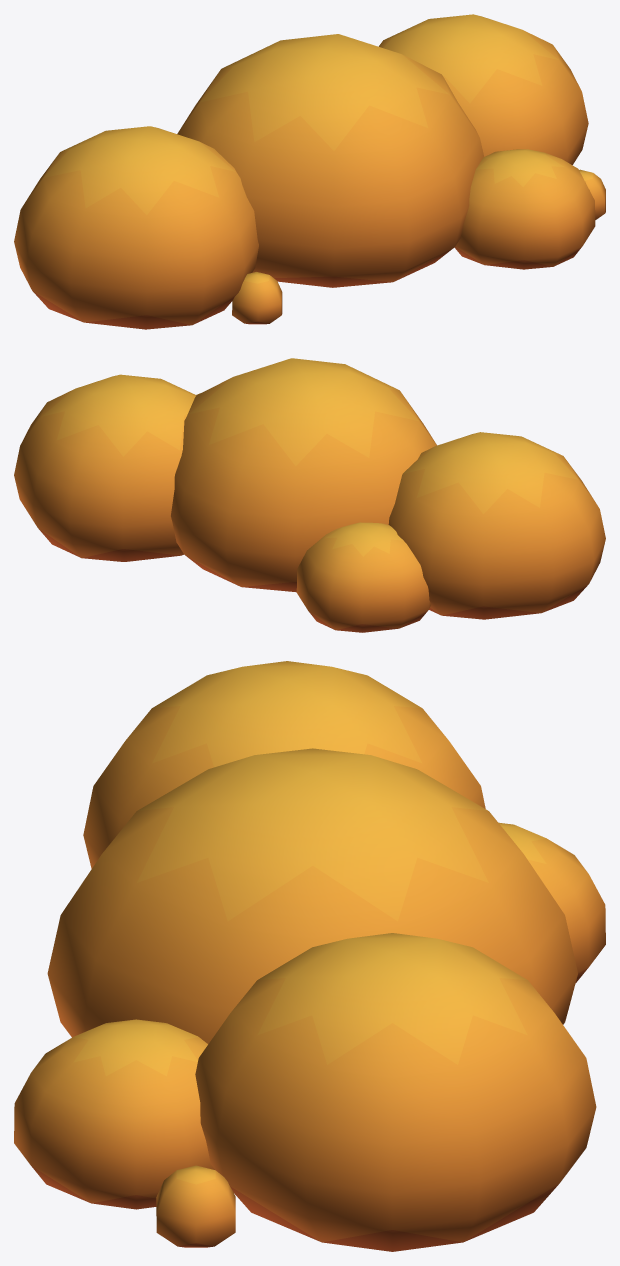
File: bush_wide.gltf
3 renders of one model, top to bottom at view 1: azimuth 30°, elevation 25°; view 2: azimuth 150°, elevation 25°; view 3: azimuth 270°, elevation 25°, orthographic. The views are drawn at different scales.
Parts seen in each view (by area): view 1: Bush_1_G_Color1; view 2: Bush_1_G_Color1; view 3: Bush_1_G_Color1.
Part boxes in pixels (left/top/right/bottom): Bush_1_G_Color1: left=14, top=14, right=605, bottom=329; Bush_1_G_Color1: left=14, top=358, right=605, bottom=632; Bush_1_G_Color1: left=14, top=661, right=605, bottom=1251.
Bounding box in the file's own units: 3.1 × 0.9937 × 1.75.
1 material, 1 textured.
